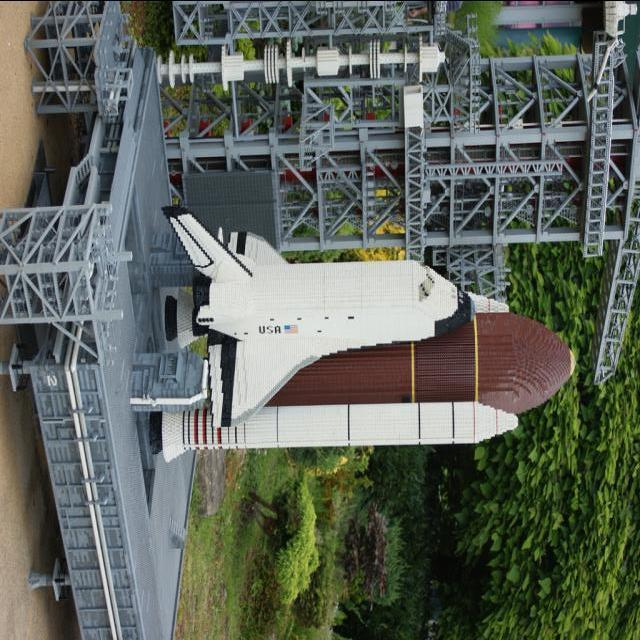missile: (163, 204, 576, 445)
